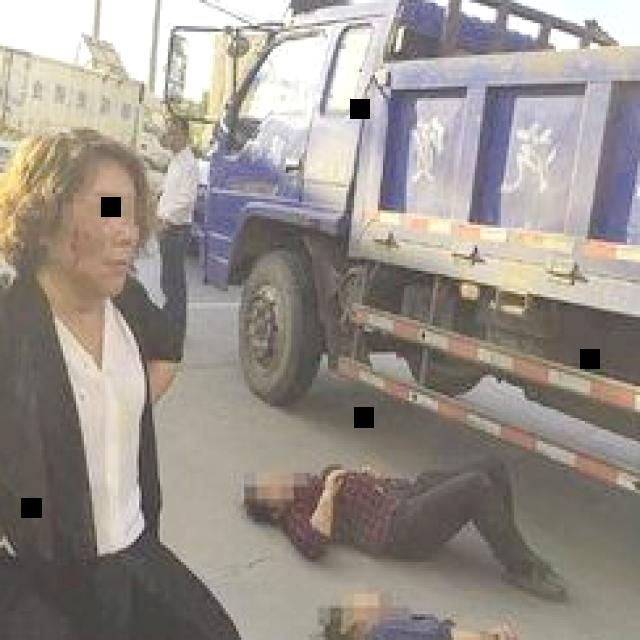Fall-Detected: (249, 432, 572, 586)
